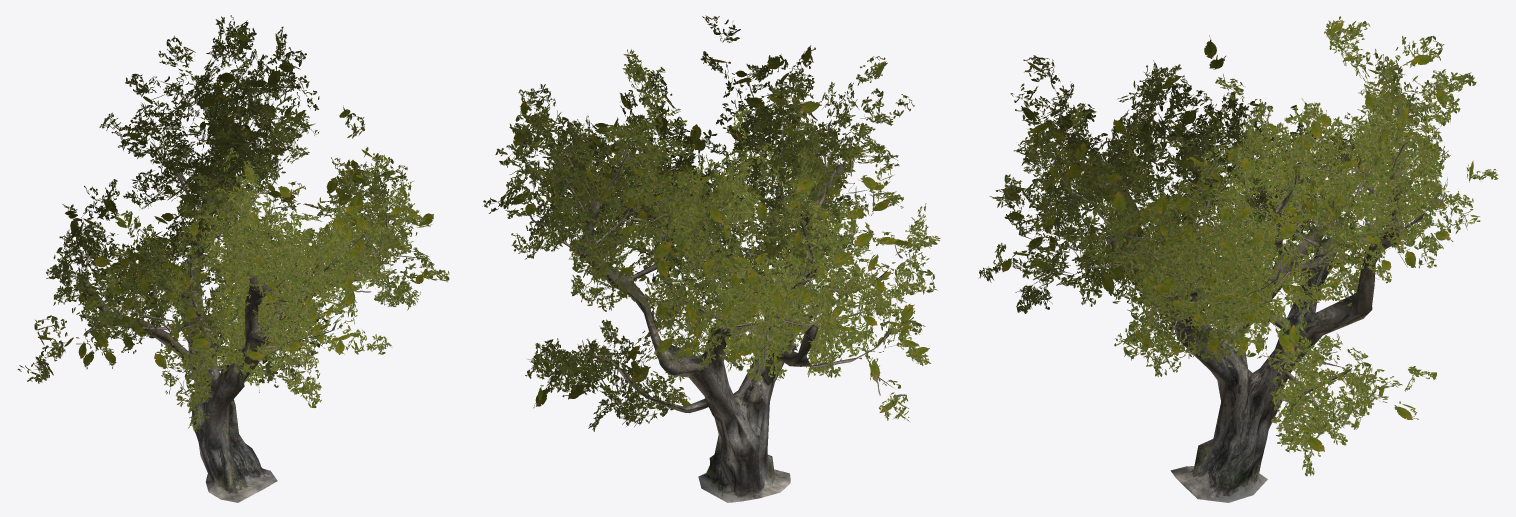
3 views of the same model, side by side, from view 1: azimuth 30°, elevation 25°; view 2: azimuth 150°, elevation 25°; view 3: azimuth 270°, elevation 25° (orthographic). The views are drawn at different scales.
Parts seen in each view (by area): view 1: island_tree_01_lod1; view 2: island_tree_01_lod1; view 3: island_tree_01_lod1.
Boxes of the visible parts, box(x1,y1,x2,y2) form: island_tree_01_lod1: box(17, 15, 449, 502); island_tree_01_lod1: box(482, 15, 940, 502); island_tree_01_lod1: box(978, 16, 1498, 502).
Size of the model in its own units: 4.79 by 5.03 by 4.86.
3 materials, 3 textured.
